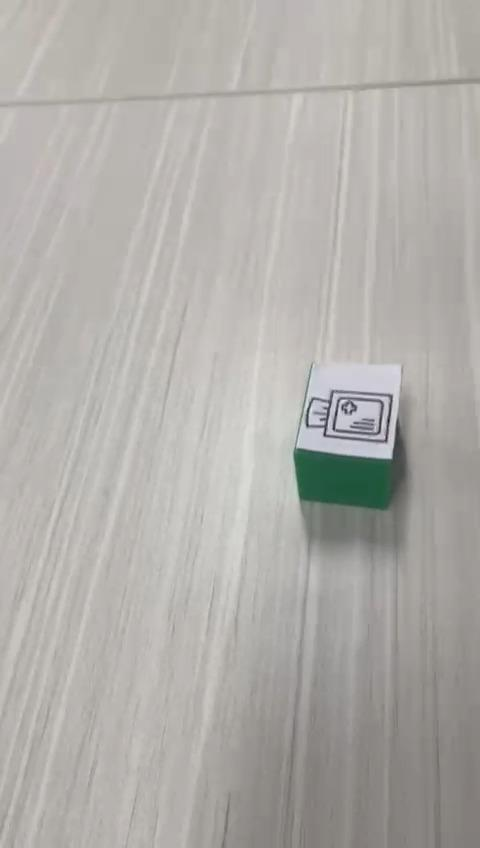Gauze: (292, 360, 403, 510)
